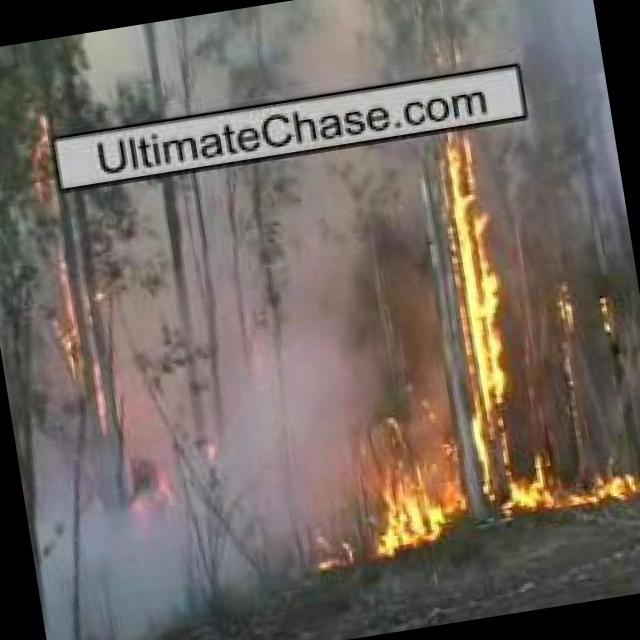Fire: (357, 433, 640, 554), (443, 138, 529, 461), (43, 258, 97, 383), (24, 109, 69, 210), (549, 279, 587, 349), (598, 296, 623, 348)
Smoke: (0, 106, 640, 512), (75, 0, 600, 128)
